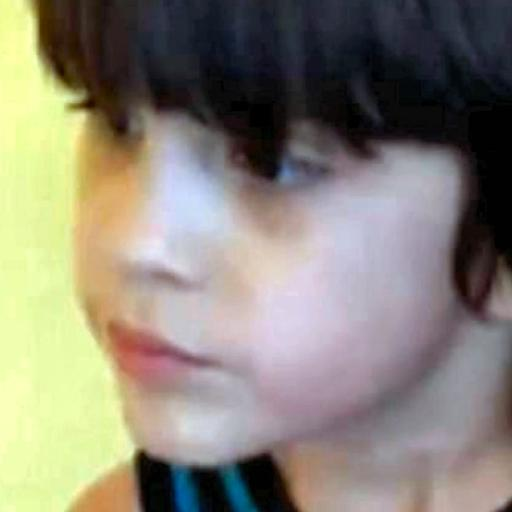Autism: (14, 6, 512, 512)
